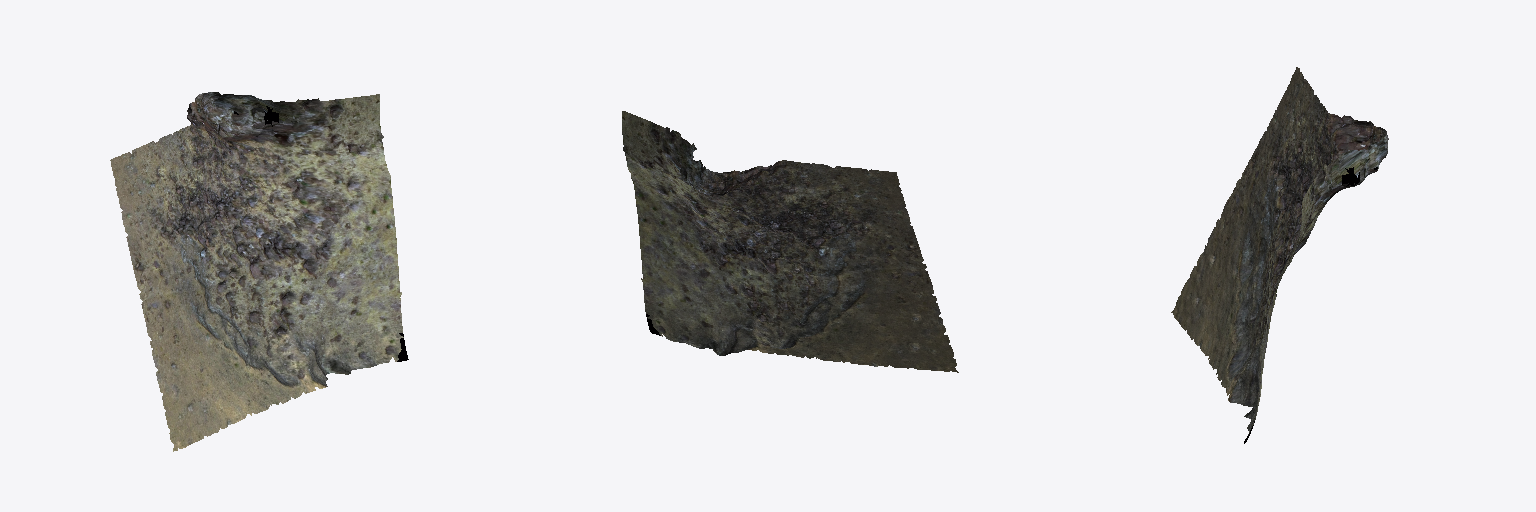
The picture shows the model from 3 angles: view 1: azimuth 30°, elevation 25°; view 2: azimuth 150°, elevation 25°; view 3: azimuth 270°, elevation 25°; orthographic projection.
Bounding box in the file's own units: 1.97 × 1.7 × 1.35.
Materials: 1 (1 with a texture image).